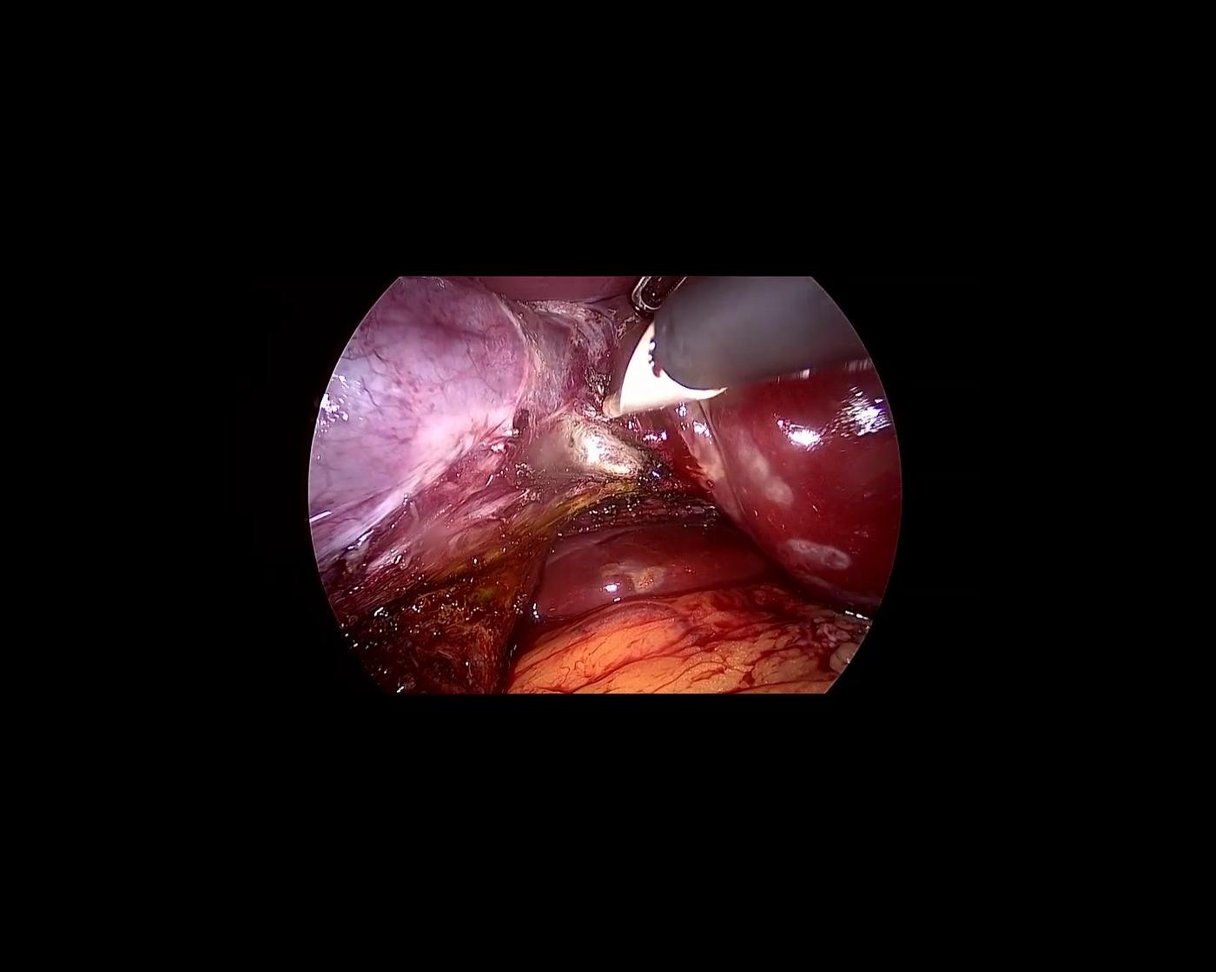Cautery: (574, 241, 867, 430)
Gallbladder: (215, 241, 565, 561)
Liver: (527, 364, 900, 622)
